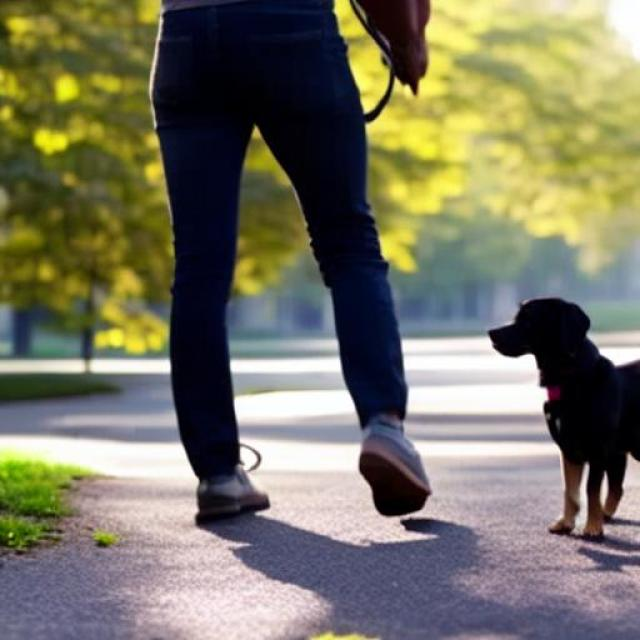Unleashed_Dog: (151, 4, 640, 539)
